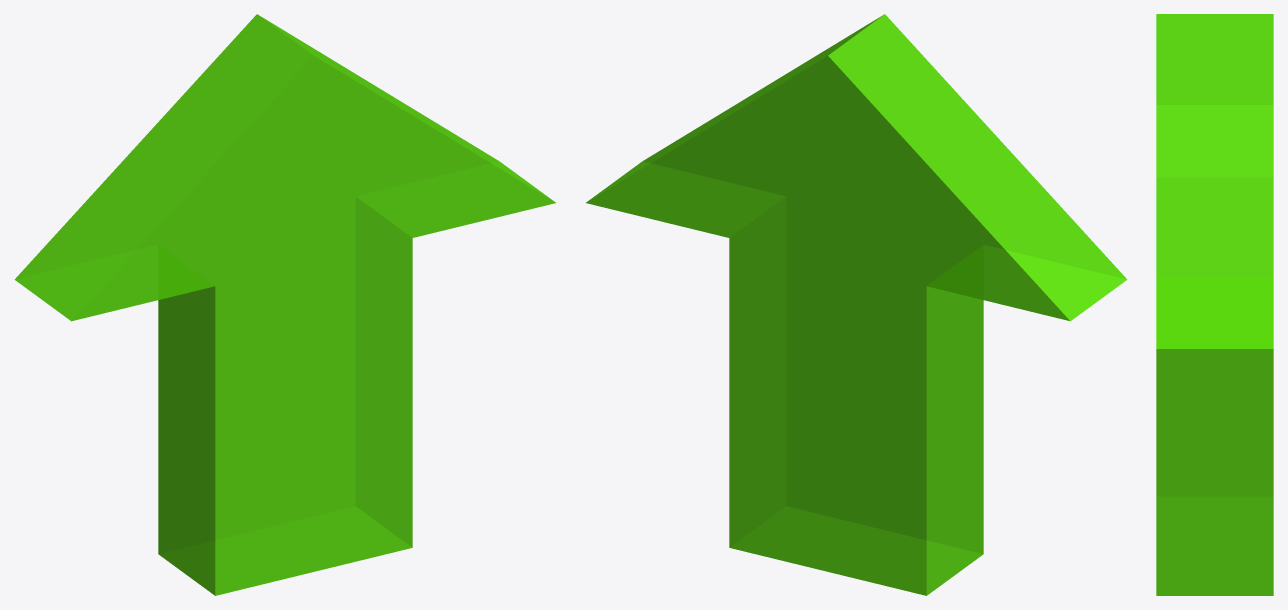
The model's file is Seta.fbx.
The picture shows the model from 3 angles, left to right: view 1: azimuth 30°, elevation 25°; view 2: azimuth 150°, elevation 25°; view 3: azimuth 270°, elevation 25°; orthographic projection. The views are drawn at different scales.
Parts seen in each view (by area): view 1: Cube; view 2: Cube; view 3: Cube.
Part boxes in pixels (<box>): Cube: <box>14,14,555,595</box>; Cube: <box>586,14,1127,595</box>; Cube: <box>1156,14,1273,595</box>.
Bounding box in the file's own units: 492 × 500 × 100.
